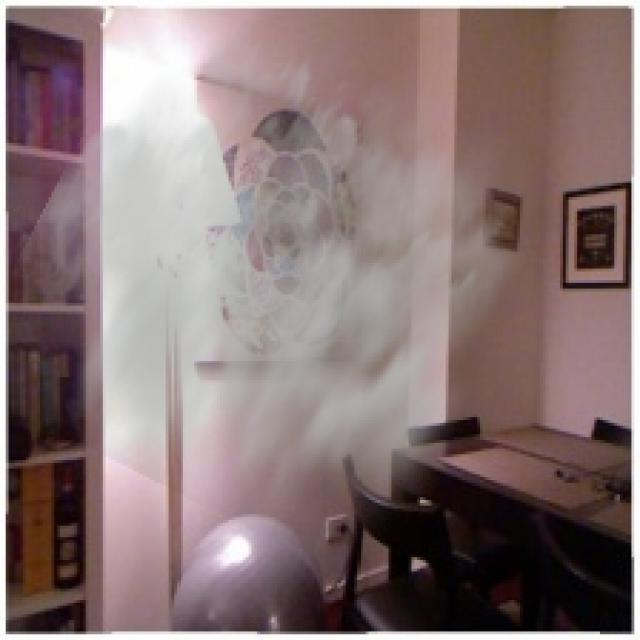Smoke: (0, 20, 543, 589)
